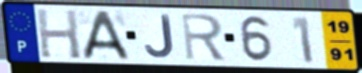1: (290, 15, 316, 65)
6: (238, 14, 275, 63)
A: (81, 9, 133, 61)
H: (35, 7, 84, 61)
J: (143, 13, 176, 60)
R: (179, 11, 228, 62)
